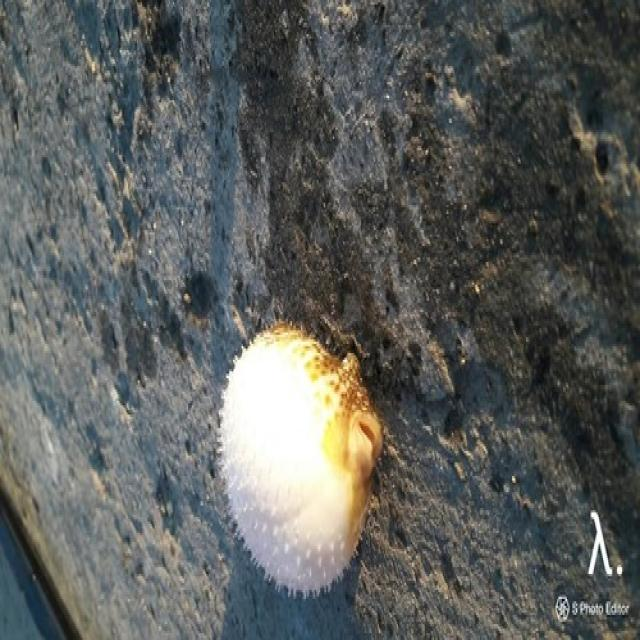Balik: (219, 321, 383, 594)
